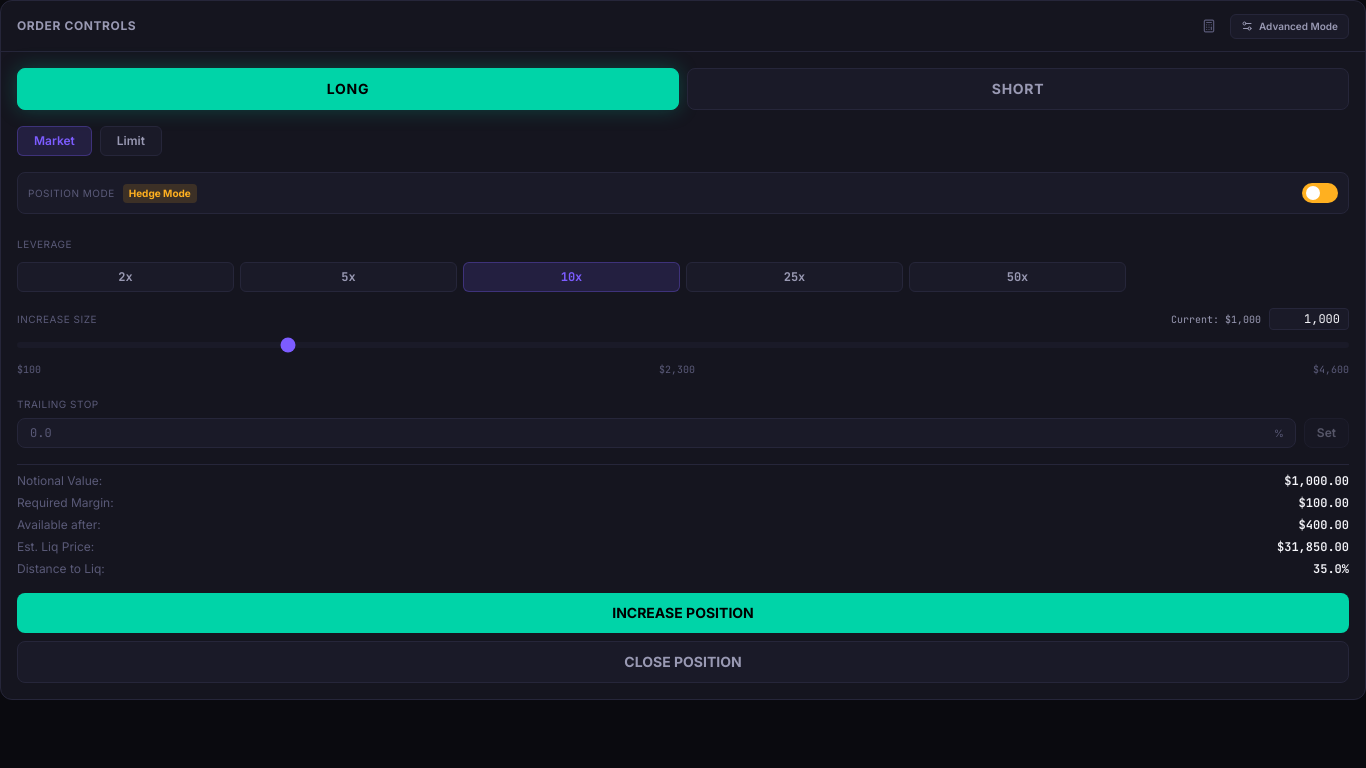
Component Integration Tests with Real Store › TradeControls › flip button enabled when slider within effective wallet bounds
Note: Switch to opposite side to trigger flip mode
Click the button "SHORT".
click(1018, 89)  # box [687,68,1349,110]
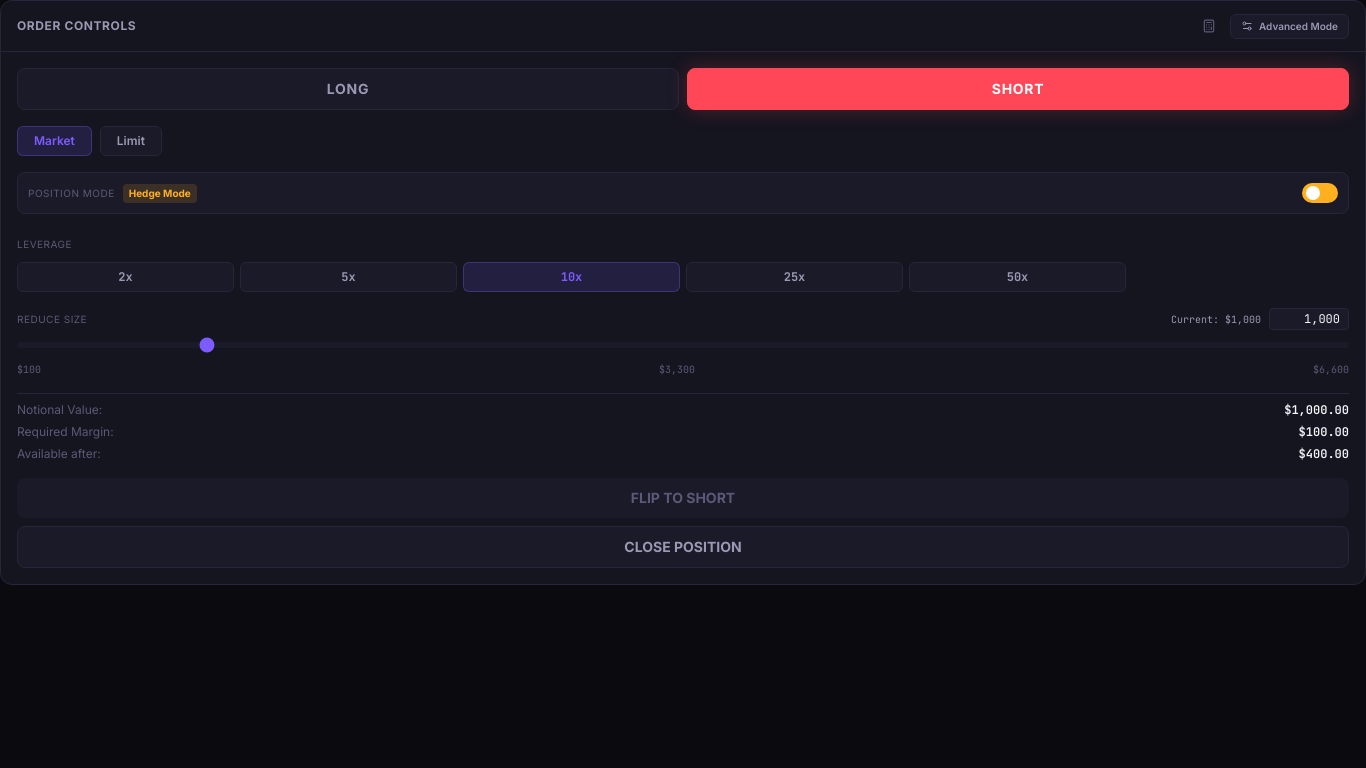
Note: Set slider above position.size to trigger flip mode
Set the slider to "2000" at (410,345), box [17,342,1349,348]
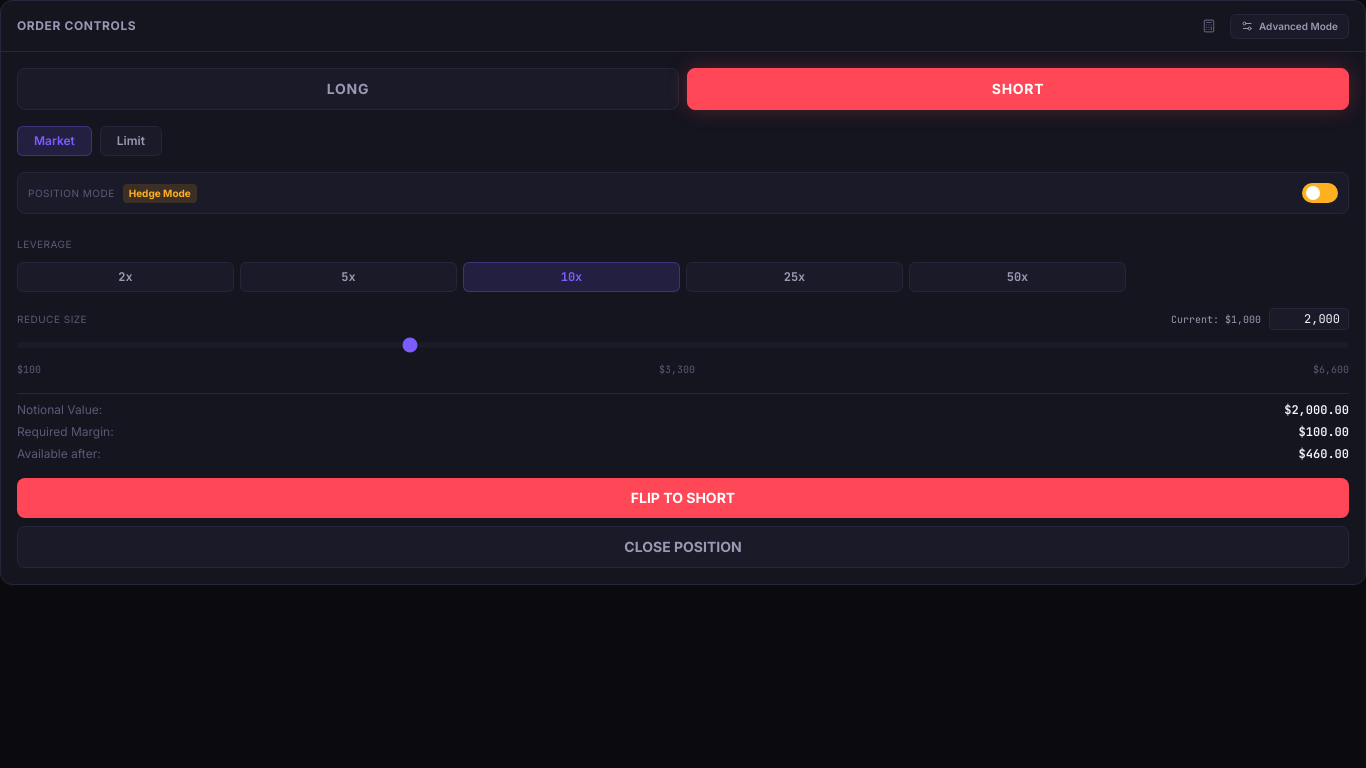
Result: the button with test id "trade-controls-action-btn" is enabled at [17,478,1349,518]
